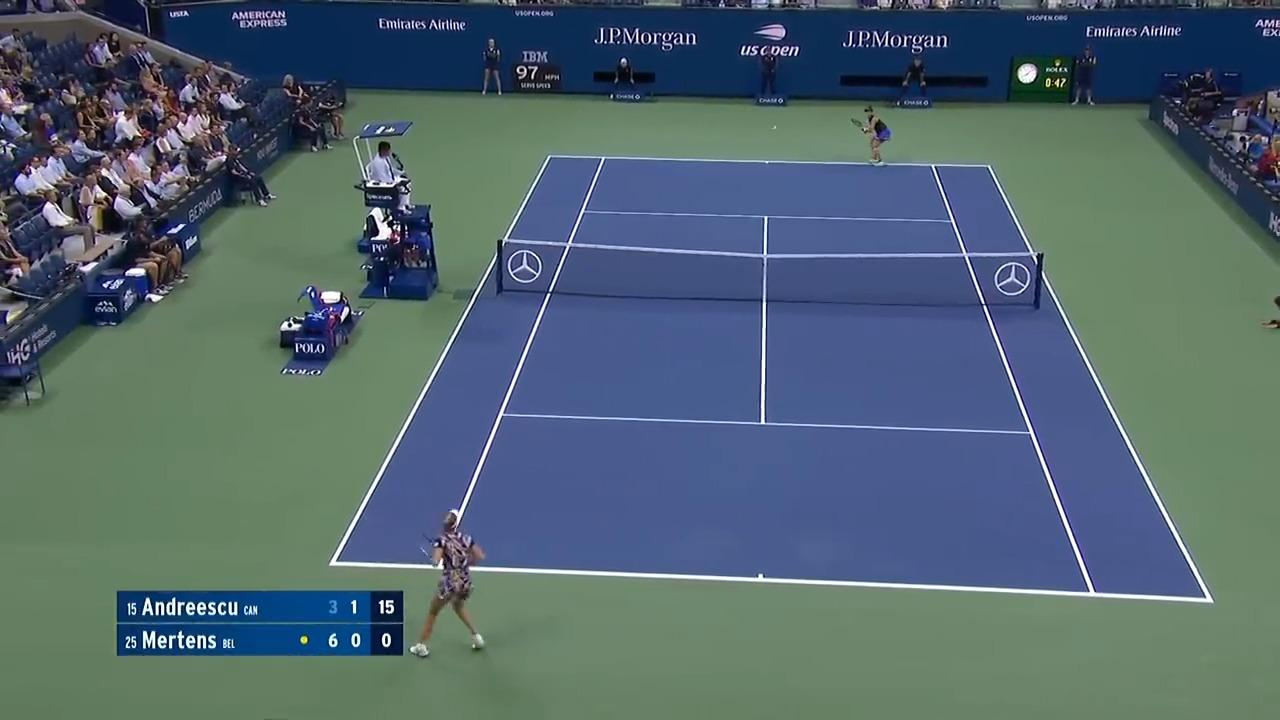tennis ball: (766, 122, 784, 132)
